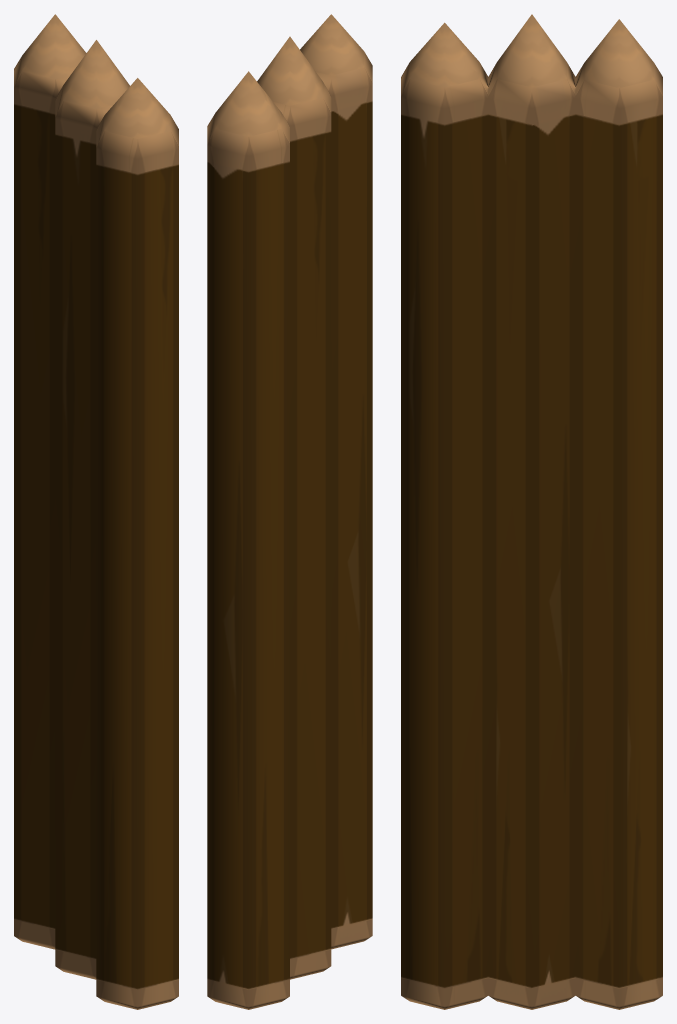
File: mod_building_palisade_section_1.fbx
The picture shows the model from 3 angles, left to right: view 1: azimuth 30°, elevation 25°; view 2: azimuth 150°, elevation 25°; view 3: azimuth 270°, elevation 25°; orthographic projection. The views are drawn at different scales.
Visible parts, largest first — view 1: mod_building_palisade_section_a; view 2: mod_building_palisade_section_a; view 3: mod_building_palisade_section_a.
Boxes of the visible parts, x1,y1,x2,y2 form: mod_building_palisade_section_a: (14, 14, 178, 1009); mod_building_palisade_section_a: (207, 14, 372, 1009); mod_building_palisade_section_a: (401, 14, 662, 1009).
Bounding box in the file's own units: 38.54 × 413 × 100.
